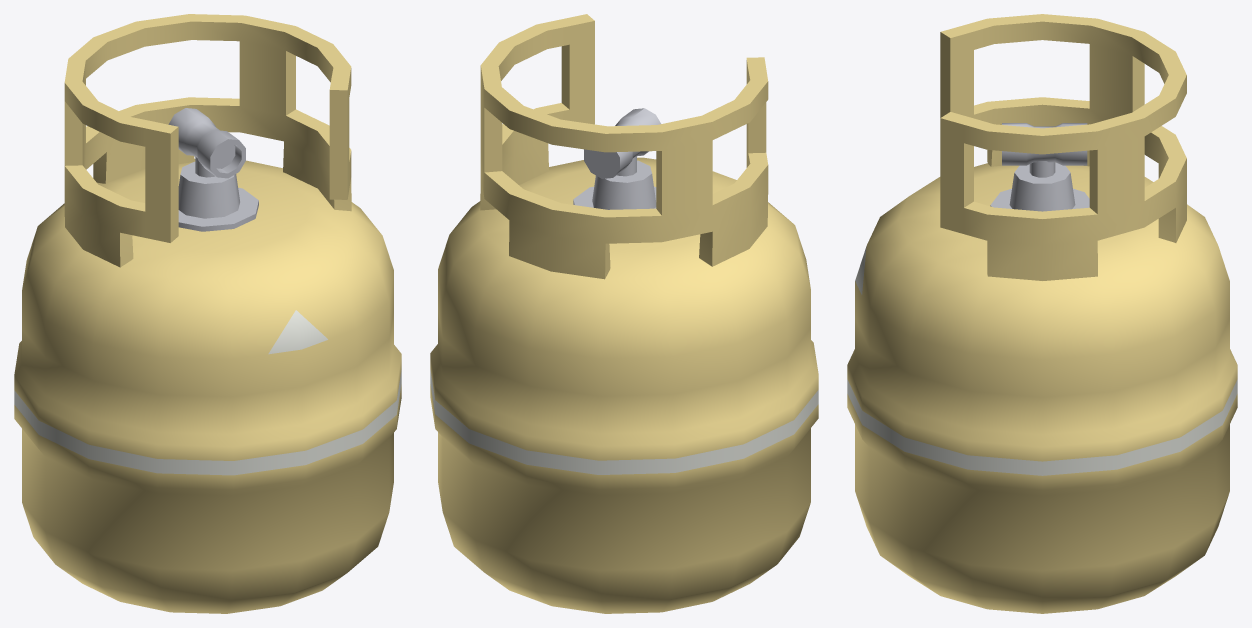
The model's file is GasTank.fbx.
3 renders of one model, left to right at view 1: azimuth 30°, elevation 25°; view 2: azimuth 150°, elevation 25°; view 3: azimuth 270°, elevation 25°, orthographic.
Visible parts, largest first — view 1: GasTank.001; view 2: GasTank.001; view 3: GasTank.001.
Boxes of the visible parts, x1,y1,x2,y2 form: GasTank.001: [14, 14, 401, 613]; GasTank.001: [430, 14, 818, 613]; GasTank.001: [847, 14, 1237, 613].
Bounding box in the file's own units: 1.01 × 1.39 × 1.01.
